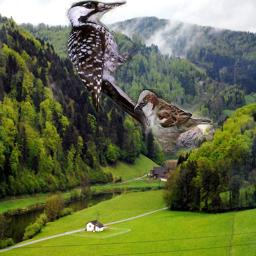Sparrow: (134, 89, 213, 152)
Woodpecker: (65, 0, 149, 130)
